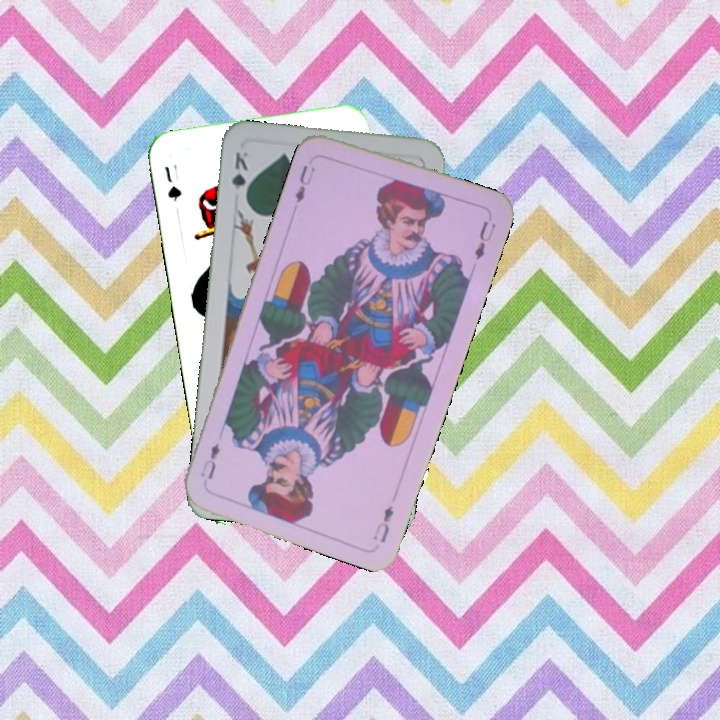EU: (290, 160, 318, 206), (369, 501, 396, 546)
GK: (227, 147, 252, 205)
GU: (160, 162, 184, 204)
